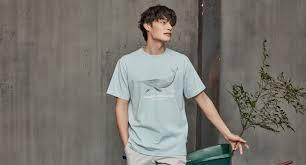Tshirt: (105, 47, 212, 157)
